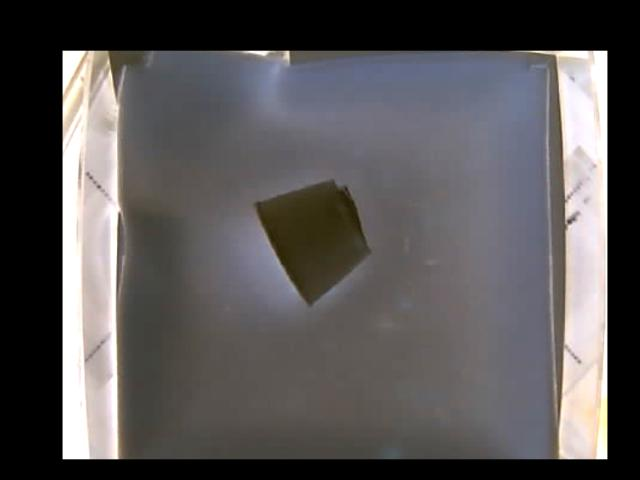Cup: (253, 179, 367, 310)
